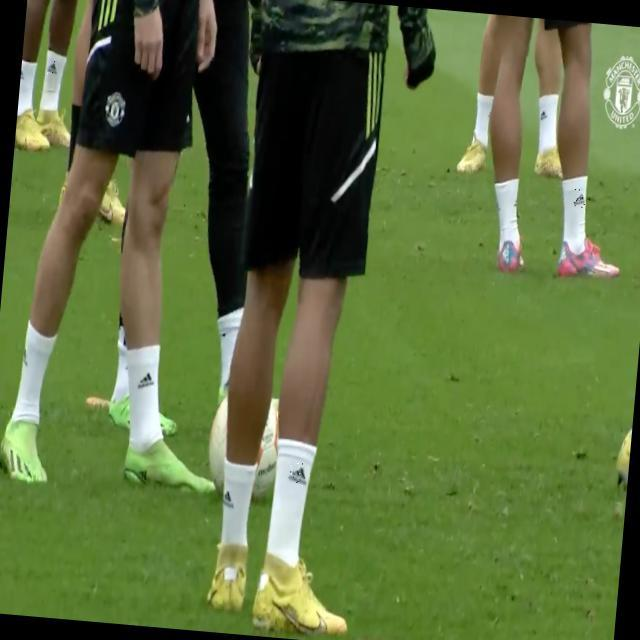Adidas: (286, 460, 310, 487), (138, 368, 155, 390), (221, 486, 236, 509), (573, 189, 587, 208), (47, 60, 60, 75)
